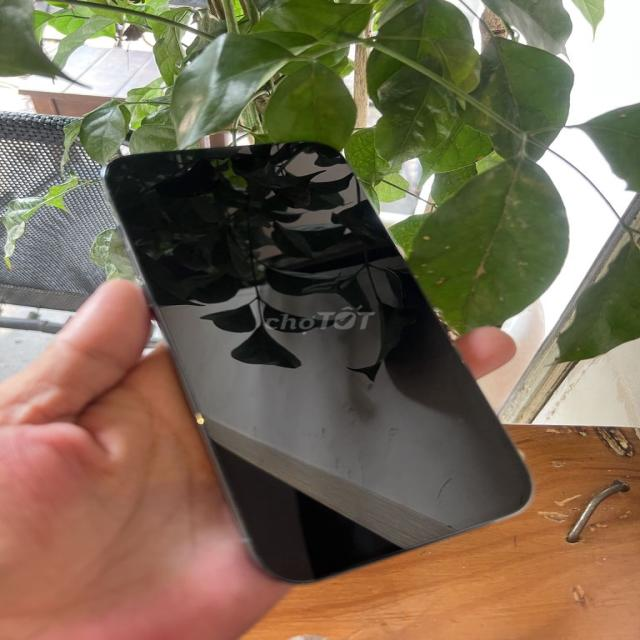gen_12_13: (102, 136, 536, 586)
